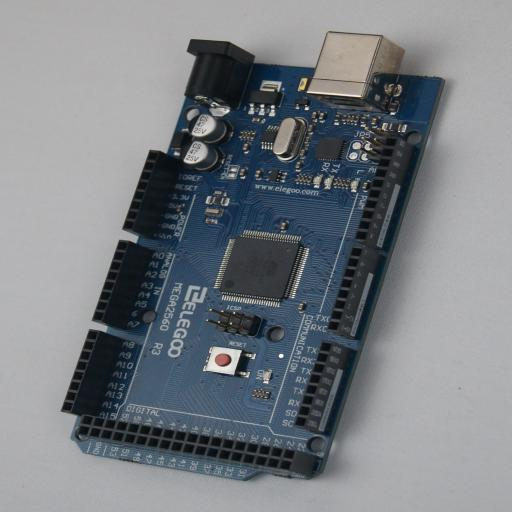Arduino Mega 2560 -Blue-: (60, 31, 446, 481)
